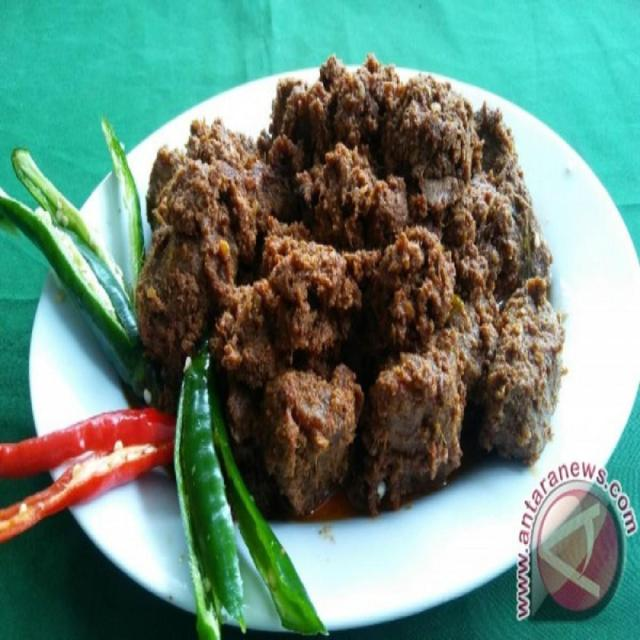Rendang: (134, 33, 581, 491)
